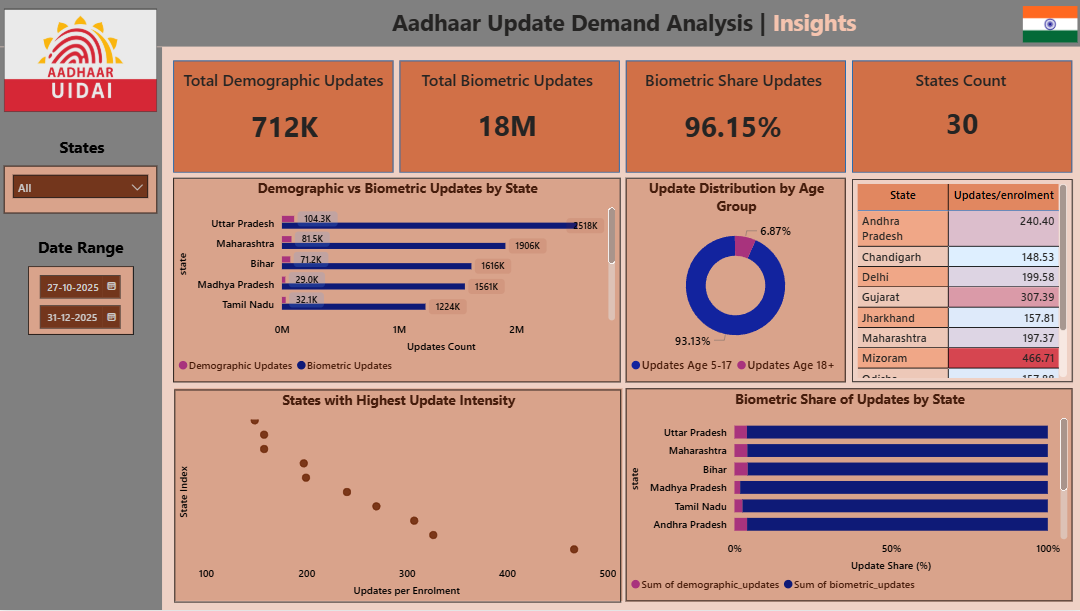

This screenshot's page, from the dashboard's own definition file:
{"tool":"powerbi","page":{"name":"Insights","canvas":[1280,720],"ordinal":1},"visuals":[{"type":"shape","box":[473.3,71.4,260,132.5],"z":0},{"type":"shape","box":[740.4,71.4,260,132.5],"z":1000},{"type":"shape","box":[1007.5,71.2,260,132.5],"z":2000},{"type":"shape","box":[206.2,211,527.5,240],"z":3000},{"type":"shape","box":[206.2,71.4,260,132.5],"z":4000},{"type":"shape","box":[0,0,1280,55],"z":5000},{"type":"shape","box":[0,55,192.5,665],"z":6000},{"type":"image","box":[6.2,10,181.2,122.5],"z":7000},{"type":"textbox","box":[418.8,2.5,638.8,51.2],"z":8000},{"type":"cardVisual","fields":{"Data":["final_state_summary.Total Demographic Updates"]},"box":[253.8,112.5,166.2,68.8],"z":9000},{"type":"textbox","box":[206.2,77.5,260,56.2],"z":10000},{"type":"textbox","box":[480,77.5,240,56.2],"z":11000},{"type":"cardVisual","fields":{"Data":["final_state_summary.Total Biometric Updates"]},"box":[517.5,111.2,166.2,68.8],"z":12000},{"type":"cardVisual","fields":{"Data":["final_state_summary.Pct Biometric Updates"]},"box":[766.2,112.5,202.5,68.8],"z":13000},{"type":"textbox","box":[747.5,77.5,240,56.2],"z":14000},{"type":"textbox","box":[1016.2,77.5,240,55],"z":15000},{"type":"cardVisual","fields":{"Data":["final_state_summary.States Count"]},"box":[1053.8,110,166.2,68.8],"z":16000},{"type":"shape","box":[740,459.2,527.5,251.7],"z":17000},{"type":"shape","box":[740,211,260,240],"z":18000},{"type":"shape","box":[206.7,459.2,529.2,250.8],"z":19000},{"type":"shape","box":[6.2,195,181.2,56.2],"z":20000},{"type":"slicer","fields":{"Values":["final_state_summary.state"]},"box":[6.3,195.3,181.1,56.3],"z":21000},{"type":"shape","box":[33.8,313.8,123.8,81.2],"z":22000},{"type":"textbox","box":[7.5,155,181.2,40],"z":23000},{"type":"textbox","box":[6.2,273.8,181.2,40],"z":24000},{"type":"slicer","fields":{"Values":["enrolment_verified.date"]},"box":[33.8,313.8,125,81.2],"z":25000},{"type":"image","box":[1206.7,6.7,67.5,43.3],"z":26000},{"type":"clusteredBarChart","title":"Demographic vs Biometric Updates by State","fields":{"Category":["final_state_summary.state"],"Y":["Sum(final_state_summary.demographic_updates)","Sum(final_state_summary.biometric_updates)"]},"box":[206,210,528,241],"z":27000},{"type":"donutChart","title":"Update Distribution by Age Group","fields":{"Y":["enrolment_verified.Updates Age 5-17","enrolment_verified.Updates Age 18+"]},"box":[740,210,259.5,241],"z":28000},{"type":"scatterChart","title":"States with Highest Update Intensity","fields":{"X":["Sum(final_state_summary.updates_per_enrolment)"],"Y":["final_state_summary.State Index"]},"box":[207.5,460,527.5,251.2],"z":29000},{"type":"hundredPercentStackedBarChart","title":"Biometric Share of Updates by State","fields":{"Category":["final_state_summary.state"],"Y":["Sum(final_state_summary.demographic_updates)","Sum(final_state_summary.biometric_updates)"]},"box":[740,459.2,527.5,250.8],"z":30000},{"type":"tableEx","title":"Update Intensity Heatmap by State","fields":{"Values":["final_state_summary.state","final_state_summary.updates_per_enrolment"]},"box":[1007.5,211.2,260,240],"z":31000}]}

Visuals, with their boxes in screenshot pixels (x1, y1, x2, y2), scaled from the page's 1280x720 canvas onto the 1080x611 screenshot:
shape: crop(399, 61, 619, 173)
shape: crop(625, 61, 844, 173)
shape: crop(850, 60, 1069, 173)
shape: crop(174, 179, 619, 383)
shape: crop(174, 61, 393, 173)
shape: crop(0, 0, 1079, 47)
shape: crop(0, 47, 162, 610)
image: crop(5, 8, 158, 112)
textbox: crop(353, 2, 892, 46)
cardVisual - final_state_summary.Total Demographic Updates: crop(214, 95, 354, 154)
textbox: crop(174, 66, 393, 113)
textbox: crop(405, 66, 608, 113)
cardVisual - final_state_summary.Total Biometric Updates: crop(437, 94, 577, 153)
cardVisual - final_state_summary.Pct Biometric Updates: crop(646, 95, 817, 154)
textbox: crop(631, 66, 833, 113)
textbox: crop(857, 66, 1060, 112)
cardVisual - final_state_summary.States Count: crop(889, 93, 1029, 152)
shape: crop(624, 390, 1069, 603)
shape: crop(624, 179, 844, 383)
shape: crop(174, 390, 621, 603)
shape: crop(5, 165, 158, 213)
slicer - final_state_summary.state: crop(5, 166, 158, 214)
shape: crop(29, 266, 133, 335)
textbox: crop(6, 132, 159, 165)
textbox: crop(5, 232, 158, 266)
slicer - enrolment_verified.date: crop(29, 266, 134, 335)
image: crop(1018, 6, 1075, 42)
"Demographic vs Biometric Updates by State" clusteredBarChart: crop(174, 178, 619, 383)
"Update Distribution by Age Group" donutChart: crop(624, 178, 843, 383)
"States with Highest Update Intensity" scatterChart: crop(175, 390, 620, 604)
"Biometric Share of Updates by State" hundredPercentStackedBarChart: crop(624, 390, 1069, 603)
"Update Intensity Heatmap by State" tableEx: crop(850, 179, 1069, 383)
